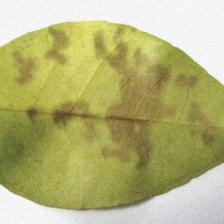canker: (38, 22, 186, 165)
